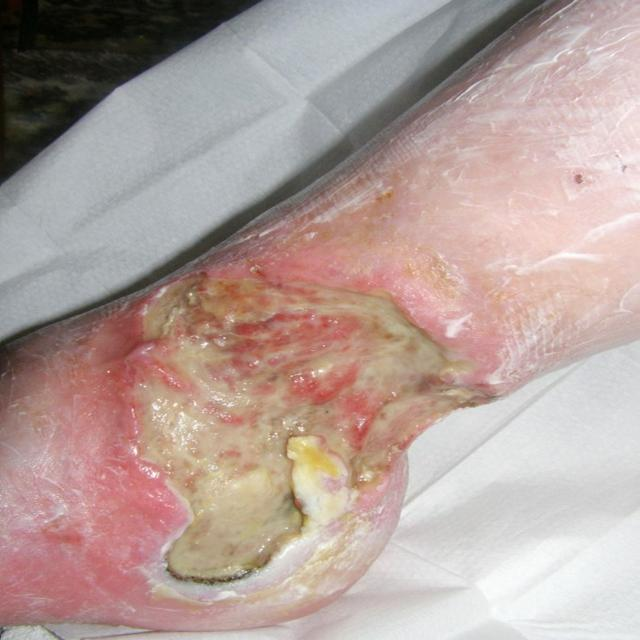wound: (87, 268, 505, 611)
